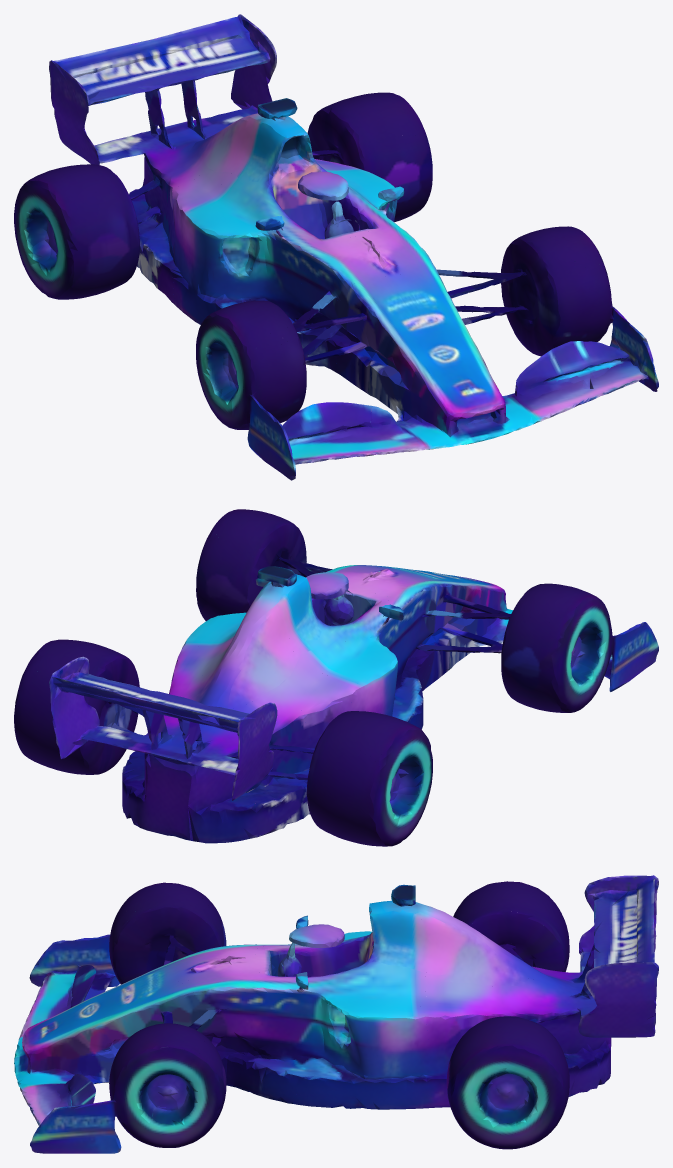
The model's file is formulae3.glb.
3 renders of one model, top to bottom at view 1: azimuth 30°, elevation 25°; view 2: azimuth 150°, elevation 25°; view 3: azimuth 270°, elevation 25°, orthographic. The views are drawn at different scales.
Parts seen in each view (by area): view 1: panel_bumper_f, panel_trunk, body, susp_front_L, panel_hood, susp_rear_L, panel_bumper_r, susp_front_R, panel_roof, wheel_front_R, susp_rear_R, wheel_rear_R; view 2: panel_trunk, panel_bumper_r, susp_front_L, susp_rear_L, body, panel_hood, panel_bumper_f, panel_roof, susp_rear_R, susp_front_R, wheel_rear_R, wheel_front_R; view 3: panel_trunk, body, panel_bumper_f, susp_rear_R, susp_front_R, panel_hood, panel_bumper_r, panel_roof, wheel_front_L, susp_front_L, wheel_rear_L, susp_rear_L.
Part boxes in pixels (x1,y1,x2,y2): panel_bumper_f: (203,240,601,462); panel_trunk: (26,14,428,301); body: (171,164,401,325); susp_front_L: (196,315,391,480); panel_hood: (199,226,597,374); susp_rear_L: (14,180,221,324); panel_bumper_r: (20,69,338,280); susp_front_R: (495,246,658,407); panel_roof: (221,98,404,231); wheel_front_R: (484,238,560,355); susp_rear_R: (312,114,432,222); wheel_rear_R: (307,110,364,170); panel_trunk: (26,596,424,775); panel_bumper_r: (24,667,414,843); susp_front_L: (411,597,658,715); susp_rear_L: (296,729,432,846); body: (181,583,423,729); panel_hood: (197,509,597,690); panel_bumper_f: (204,521,612,687); panel_roof: (225,566,404,668); susp_rear_R: (14,666,141,774); susp_front_R: (196,540,321,620); wheel_rear_R: (79,655,139,773); wheel_front_R: (250,523,306,605); panel_trunk: (418,875,658,1078); body: (248,931,435,1104); panel_bumper_f: (14,892,212,1114); susp_rear_R: (296,1031,569,1149); susp_front_R: (28,1038,327,1153); panel_hood: (129,882,268,1094); panel_bumper_r: (471,892,656,1097); panel_roof: (279,884,432,989); wheel_front_L: (112,907,219,983); susp_front_L: (28,897,226,1015); wheel_rear_L: (470,911,564,971); susp_rear_L: (453,896,569,971).
Bounding box in the file's own units: 2.48 × 1.23 × 4.
Materials: 1 (1 with a texture image).
